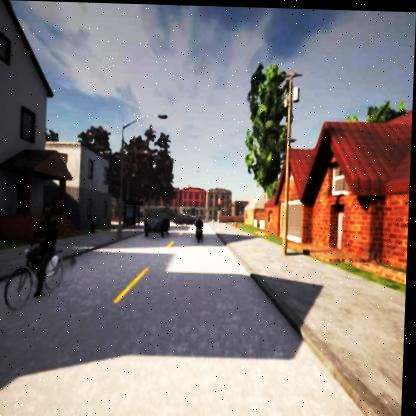bike: (5, 202, 68, 313)
motobike: (195, 216, 205, 241)
vehicle: (145, 205, 172, 237)
